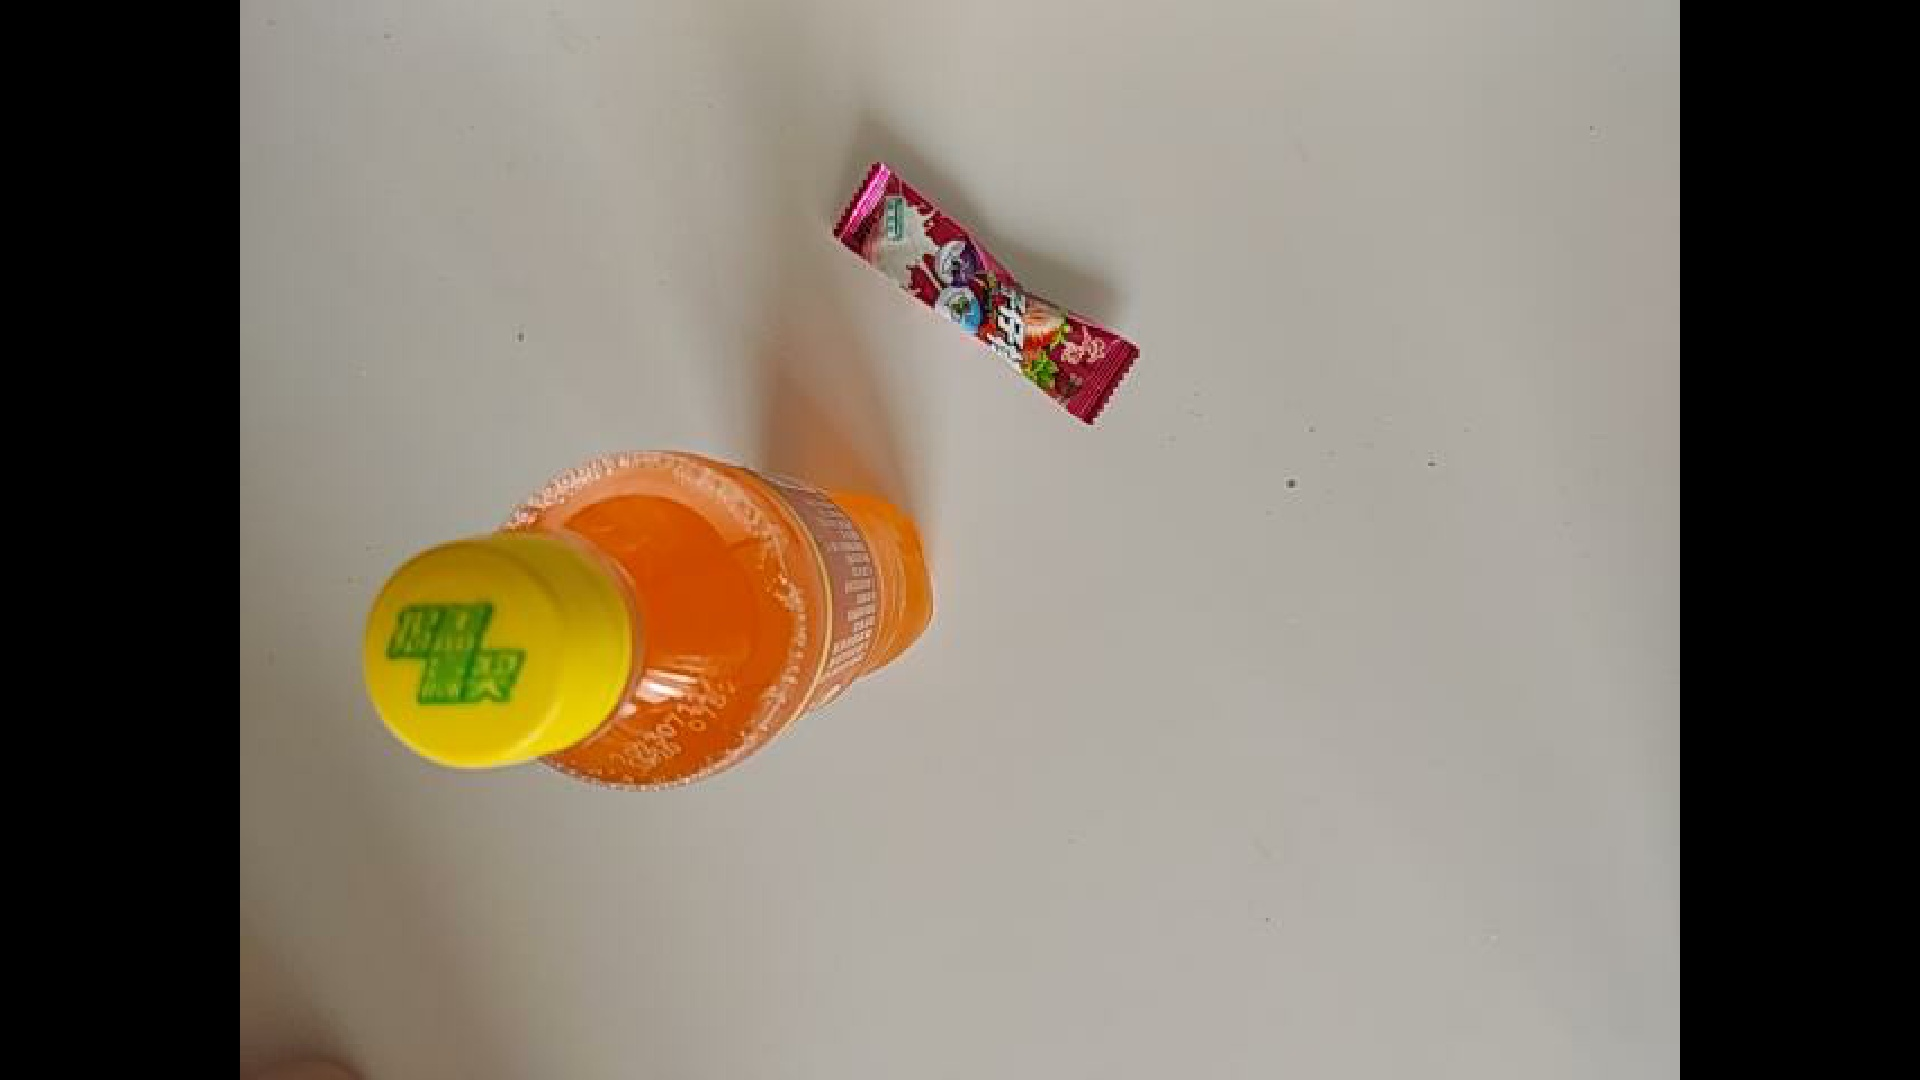fenta: (357, 447, 936, 795)
sugar: (775, 156, 1149, 345)
